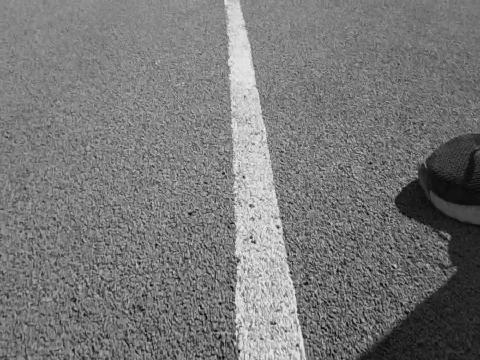Lines: (222, 0, 310, 360)
